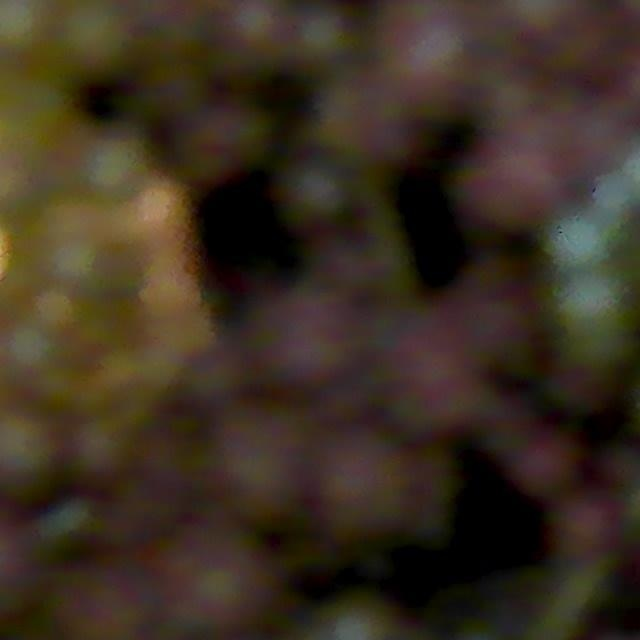SeaGrape: (240, 278, 372, 406), (308, 426, 408, 570), (164, 522, 276, 640), (372, 0, 480, 114), (208, 406, 304, 530), (460, 126, 556, 234), (388, 326, 484, 422), (52, 554, 152, 640), (168, 102, 264, 186), (500, 0, 604, 74), (554, 269, 628, 353), (216, 0, 304, 70), (57, 0, 134, 74), (0, 408, 58, 494), (277, 160, 349, 228), (66, 416, 131, 484), (513, 433, 580, 498), (552, 494, 612, 562), (550, 212, 609, 269)
